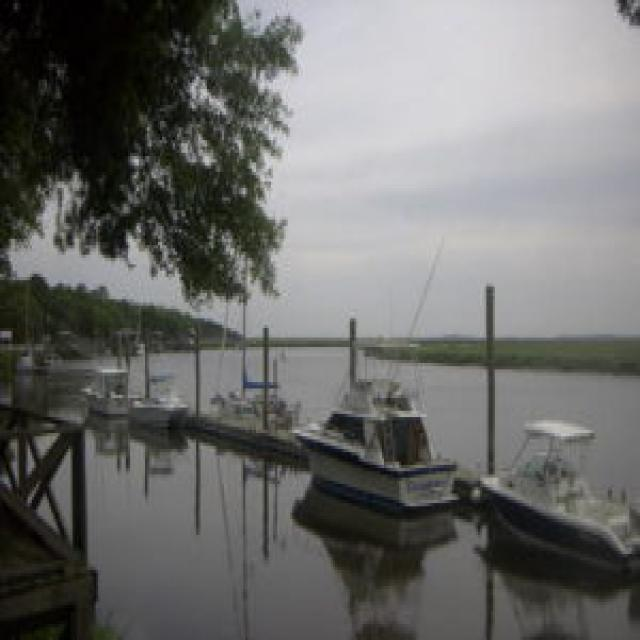houseboat: (460, 414, 640, 592), (301, 356, 461, 515)
